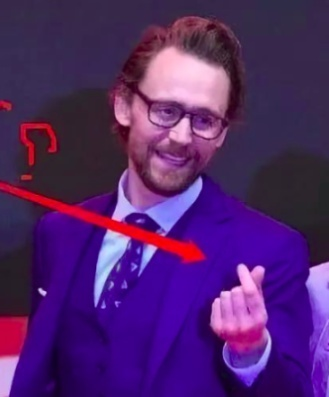oneheart: (201, 260, 283, 342)
